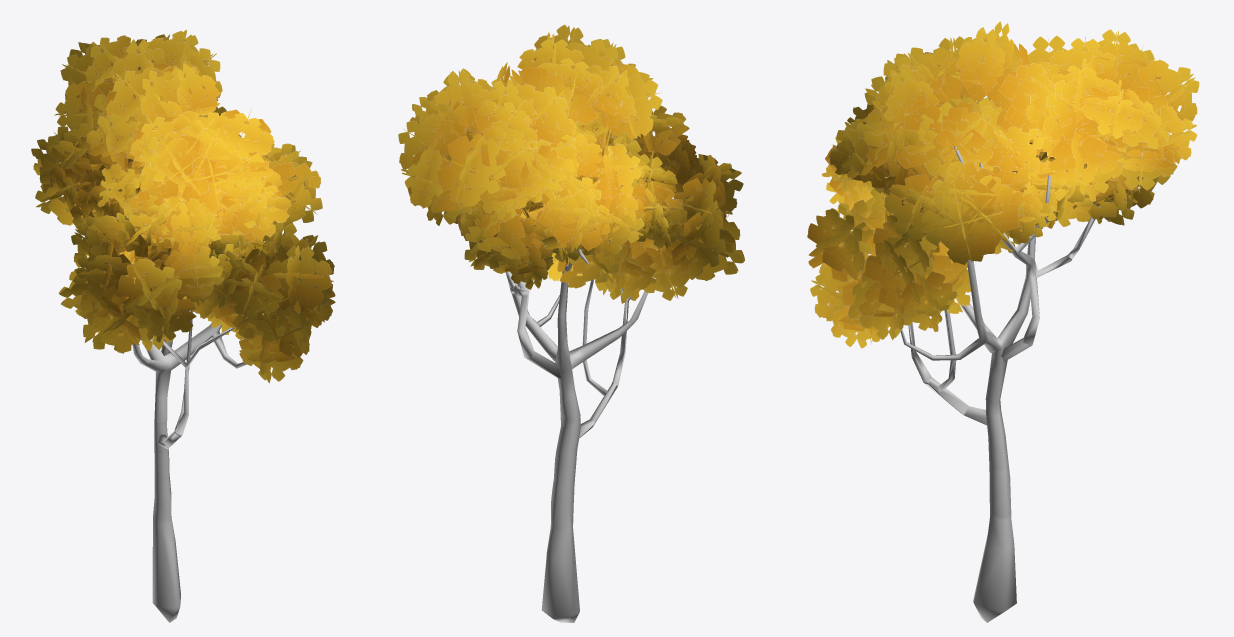
Rendered from TSP_Tree_03B.fbx.
3 views of the same model, side by side, from view 1: azimuth 30°, elevation 25°; view 2: azimuth 150°, elevation 25°; view 3: azimuth 270°, elevation 25° (orthographic). The views are drawn at different scales.
Parts seen in each view (by area): view 1: TSP_Tree_03B; view 2: TSP_Tree_03B; view 3: TSP_Tree_03B.
Boxes of the visible parts, x1,y1,x2,y2 form: TSP_Tree_03B: [31, 30, 335, 622]; TSP_Tree_03B: [398, 24, 744, 622]; TSP_Tree_03B: [807, 21, 1199, 622].
Bounding box in the file's own units: 5.56 × 10.24 × 6.51.
